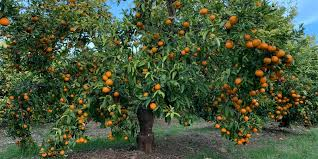orange: (102, 86, 112, 94), (226, 40, 234, 48)
